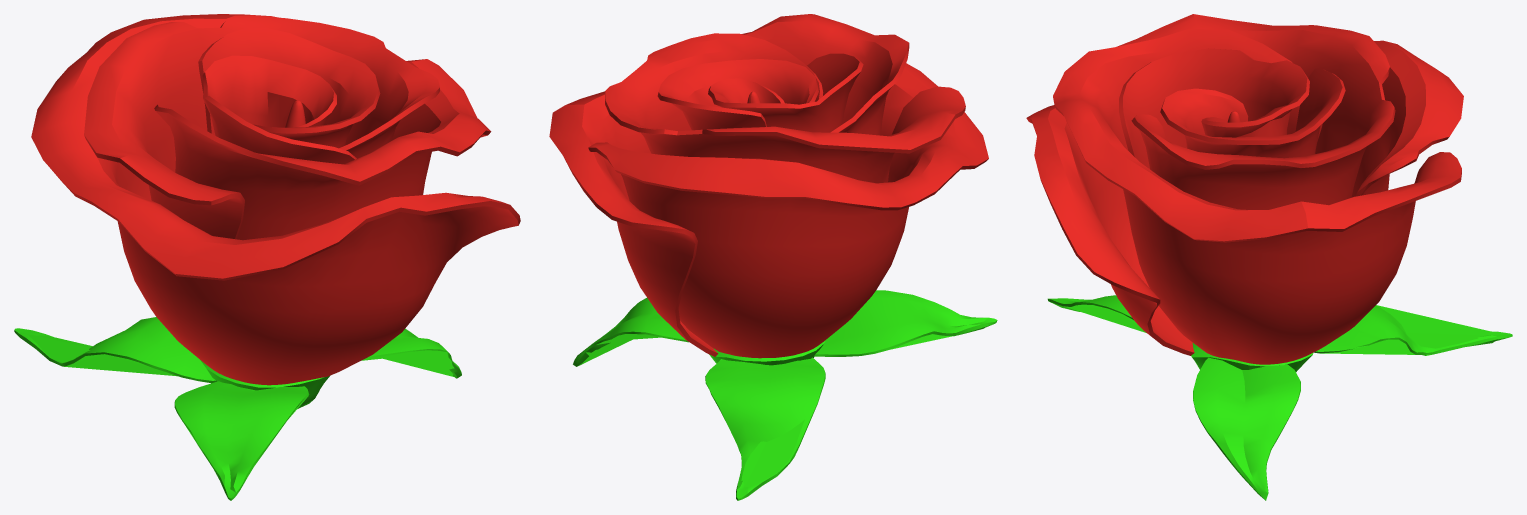
Rendered from Fleur3.glb.
3 renders of one model, left to right at view 1: azimuth 30°, elevation 25°; view 2: azimuth 150°, elevation 25°; view 3: azimuth 270°, elevation 25°, orthographic. The views are drawn at different scales.
Parts seen in each view (by area): view 1: Rose; view 2: Rose; view 3: Rose.
Part boxes in pixels (x1=…): Rose: x1=14, y1=14, x2=520, y2=500; Rose: x1=549, y1=14, x2=997, y2=500; Rose: x1=1026, y1=14, x2=1512, y2=500.
Bounding box in the file's own units: 1.68 × 1.49 × 1.93.
